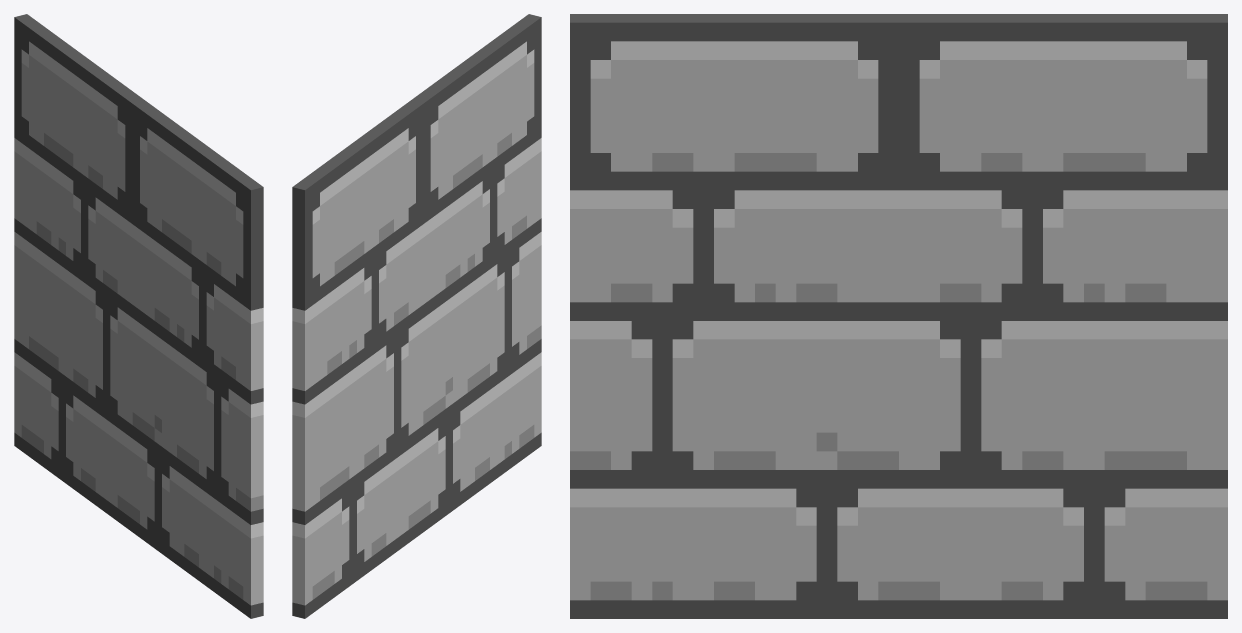
Rendered from ConcreteWall-1.obj.
3 renders of one model, left to right at view 1: azimuth 30°, elevation 25°; view 2: azimuth 150°, elevation 25°; view 3: azimuth 270°, elevation 25°, orthographic. The views are drawn at different scales.
Size of the model in its own units: 0.1 by 3.2 by 3.2.
Materials: 1 (1 with a texture image).
